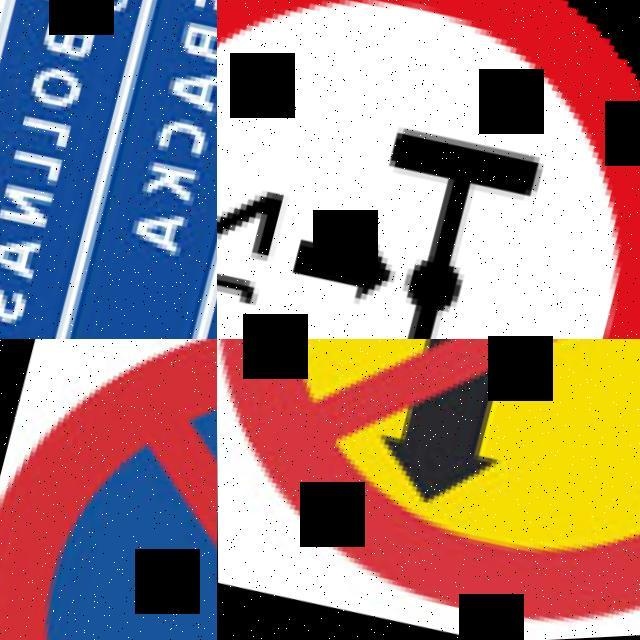121: (0, 0, 217, 339)
20: (0, 339, 217, 640)
36: (217, 339, 640, 640)
Axle weight limit-2ton: (217, 0, 640, 339)
One-way traffic: (217, 0, 640, 339)
